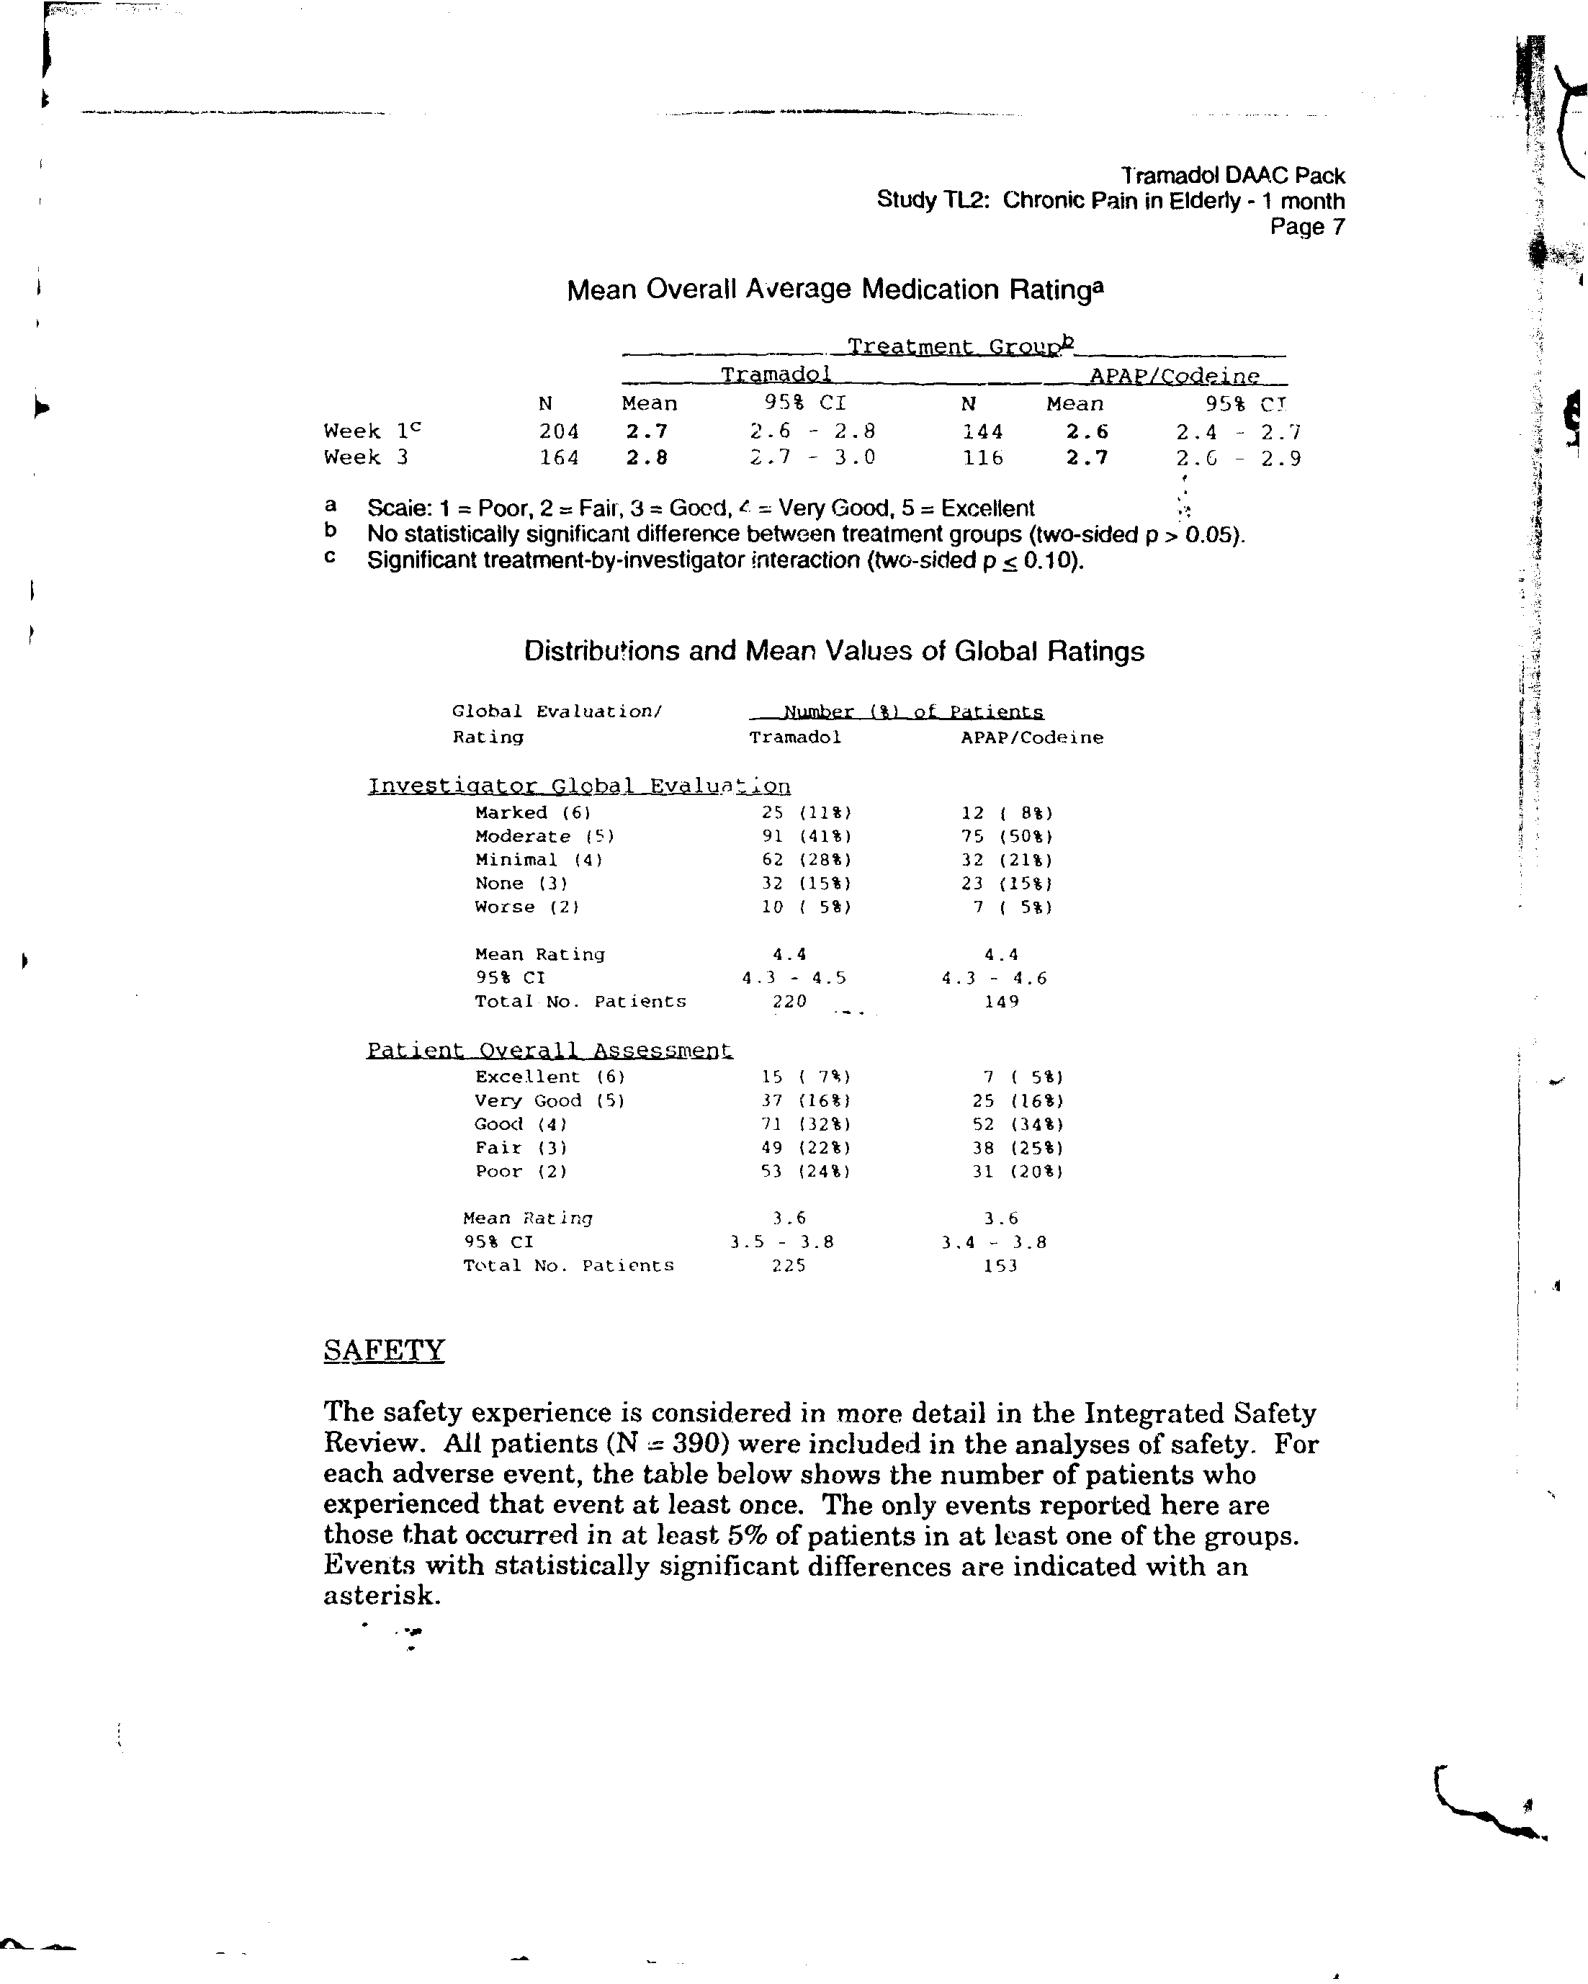nolines: (319, 330, 1308, 471)
partial_lined_merged_cells: (365, 696, 1107, 1278)
